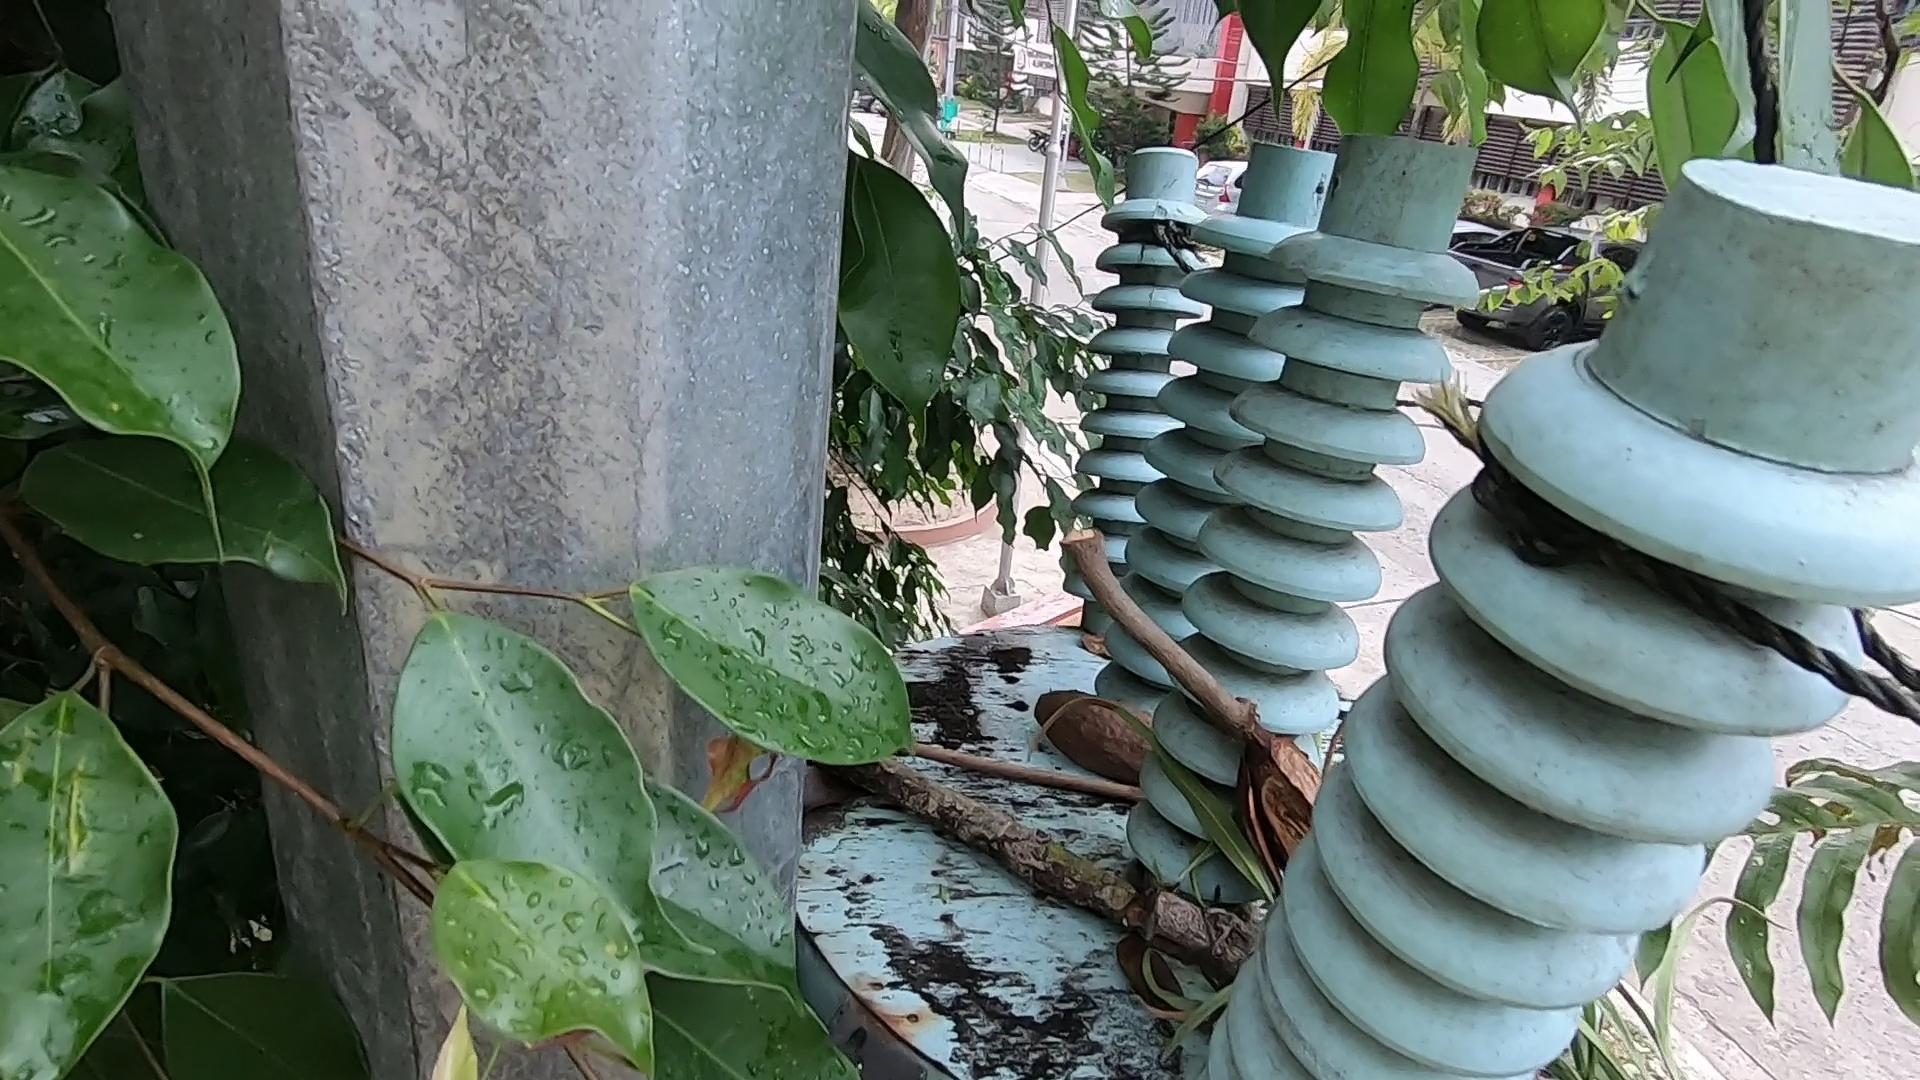branch with leaves: (855, 761, 1255, 959)
leaf: (1129, 938, 1191, 1017), (1093, 640, 1118, 669)
mahogany fruit: (1232, 690, 1396, 878), (1007, 653, 1193, 785)
tree branch: (1072, 535, 1269, 748), (916, 742, 1145, 798)
